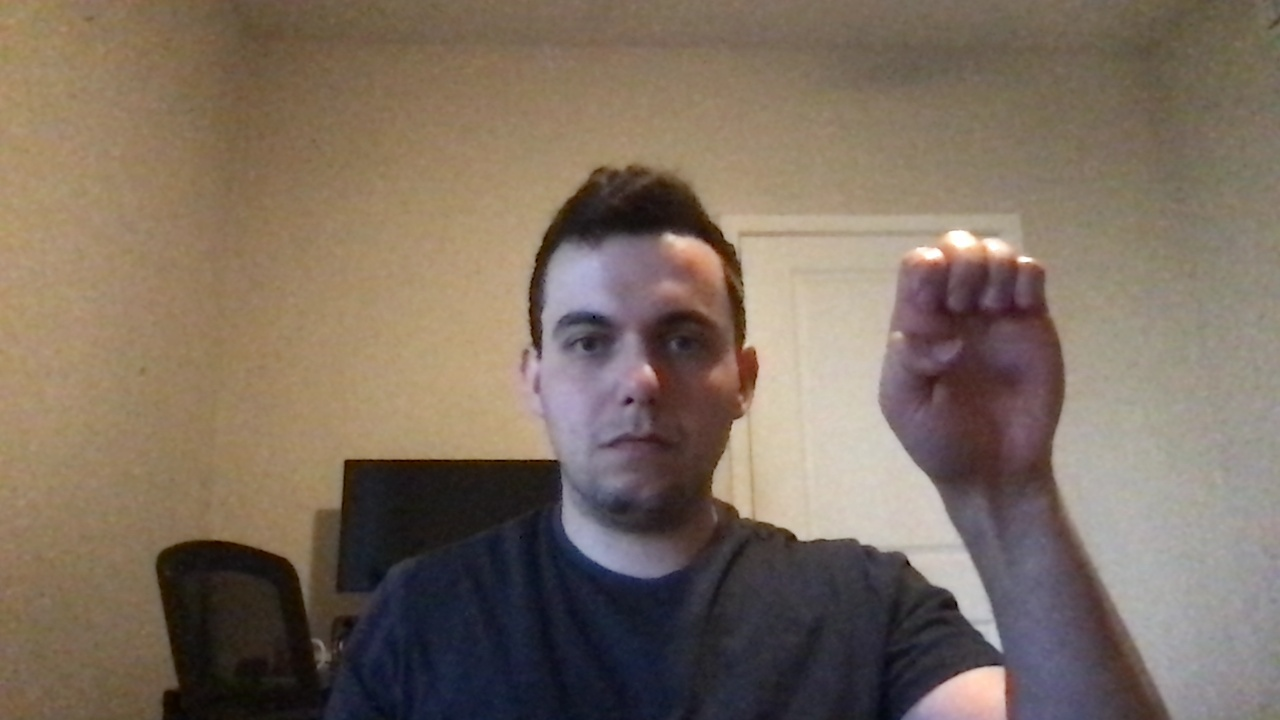e: (854, 220, 1093, 495)
